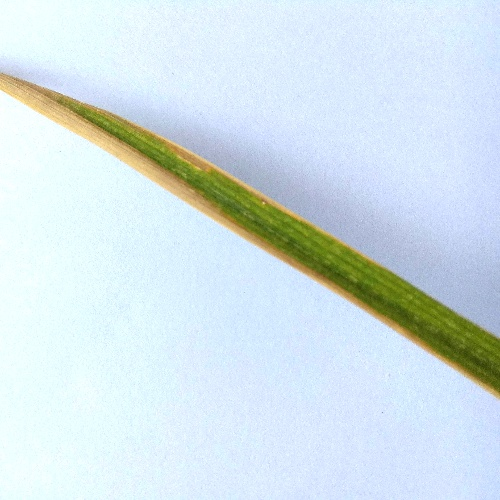Busuk Leher: (79, 125, 123, 166), (123, 149, 167, 190), (166, 182, 210, 223), (7, 71, 42, 107), (41, 100, 78, 132)
